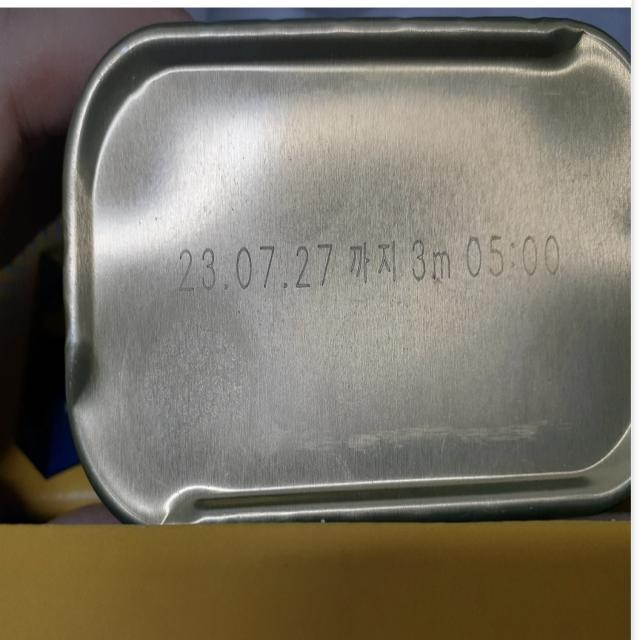recyclable: (48, 8, 640, 540)
